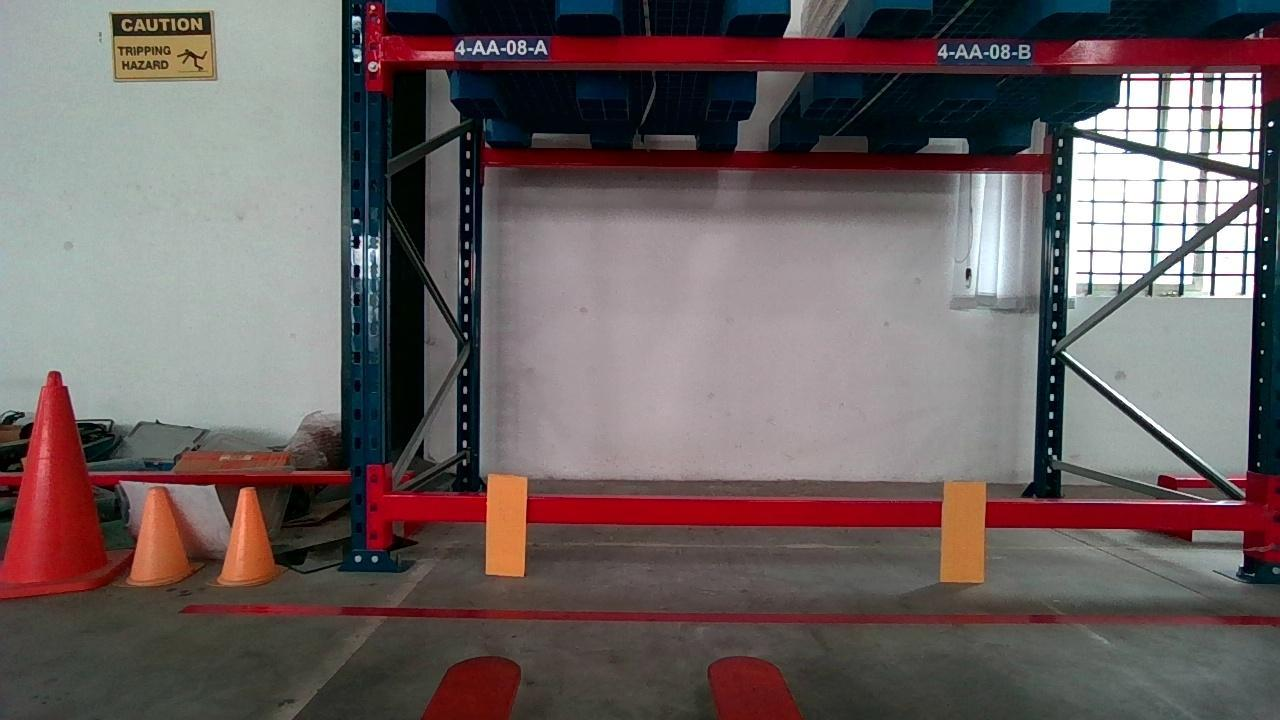h_rack: (382, 37, 1280, 70), (383, 493, 1250, 527)
orange_strip: (481, 472, 530, 574), (942, 477, 988, 581)
red_line: (177, 600, 1280, 628)
